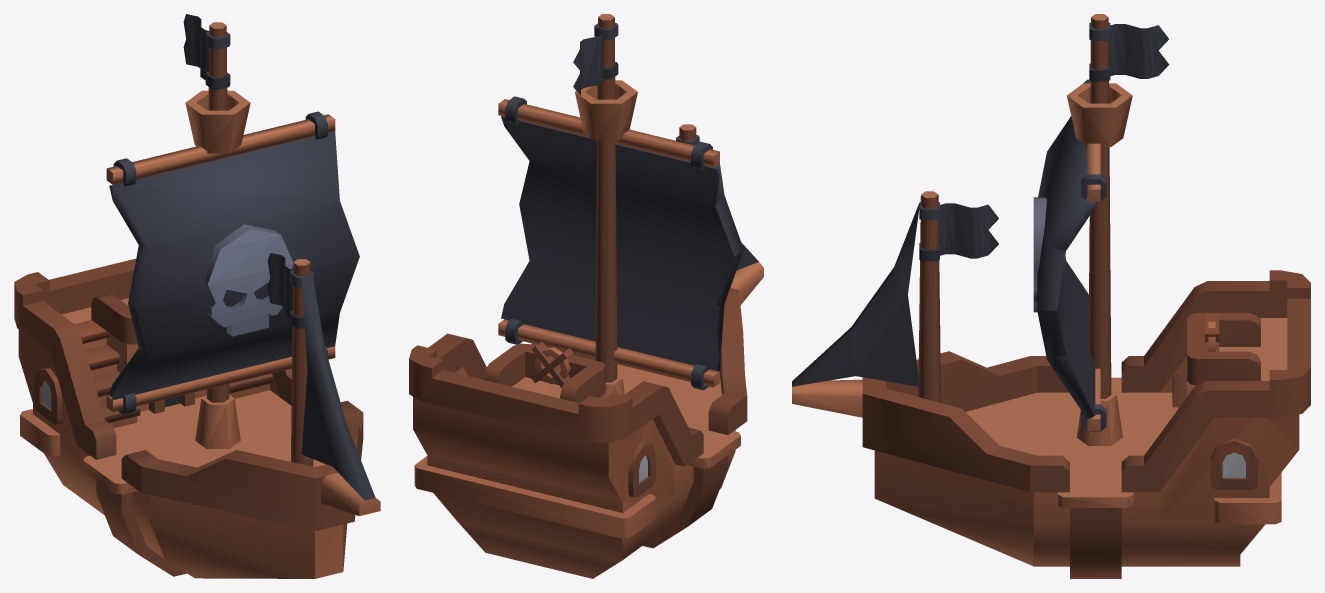
Rendered from pirate_ship_pirate_small.glb.
3 renders of one model, left to right at view 1: azimuth 30°, elevation 25°; view 2: azimuth 150°, elevation 25°; view 3: azimuth 270°, elevation 25°, orthographic. The views are drawn at different scales.
Visible parts, largest first — view 1: pirate_ship_pirate_small; view 2: pirate_ship_pirate_small; view 3: pirate_ship_pirate_small.
Part boxes in pixels (box(x1,y1,x2,y2)): pirate_ship_pirate_small: box(14, 14, 380, 578); pirate_ship_pirate_small: box(409, 14, 763, 578); pirate_ship_pirate_small: box(792, 14, 1310, 578).
Size of the model in its own units: 4.8 by 9.96 by 8.8.
